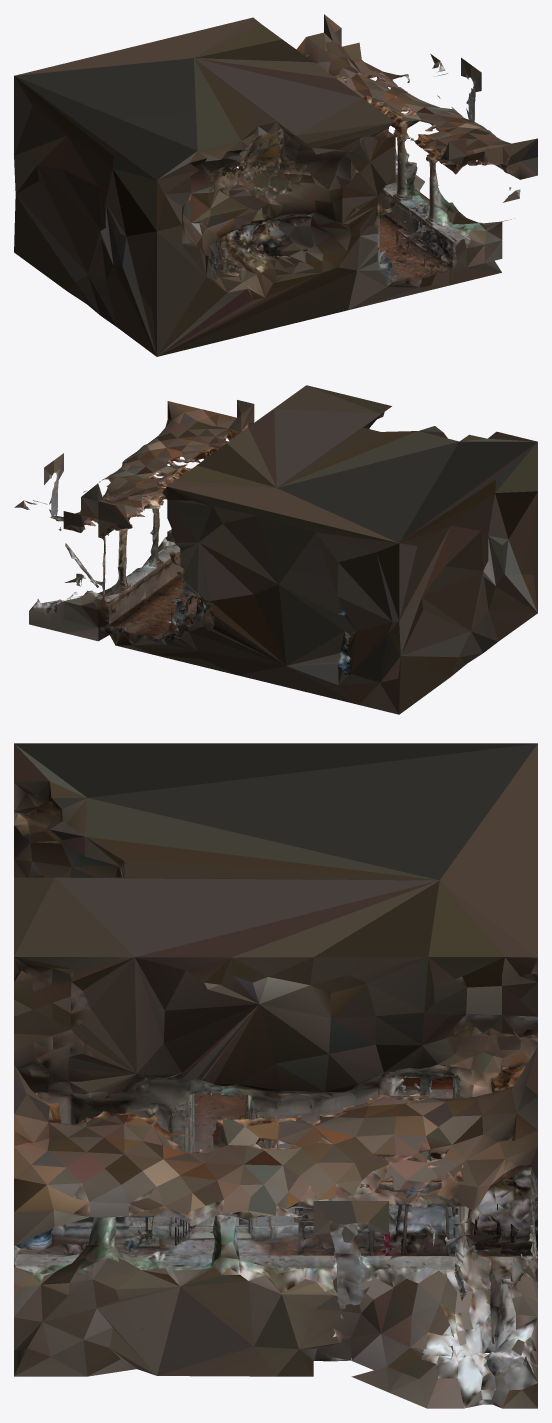
The model's file is espagnolette_bedroom_at_vizcaya_museum.glb.
3 renders of one model, top to bottom at view 1: azimuth 30°, elevation 25°; view 2: azimuth 150°, elevation 25°; view 3: azimuth 270°, elevation 25°, orthographic. The views are drawn at different scales.
Visible parts, largest first — view 1: Object_2; view 2: Object_2; view 3: Object_2.
Boxes of the visible parts, x1=… form: Object_2: x1=14, y1=14, x2=537, y2=356; Object_2: x1=14, y1=385, x2=537, y2=714; Object_2: x1=14, y1=743, x2=537, y2=1408.
Bounding box in the file's own units: 46.74 × 19.41 × 28.46.
Materials: 1 (1 with a texture image).
